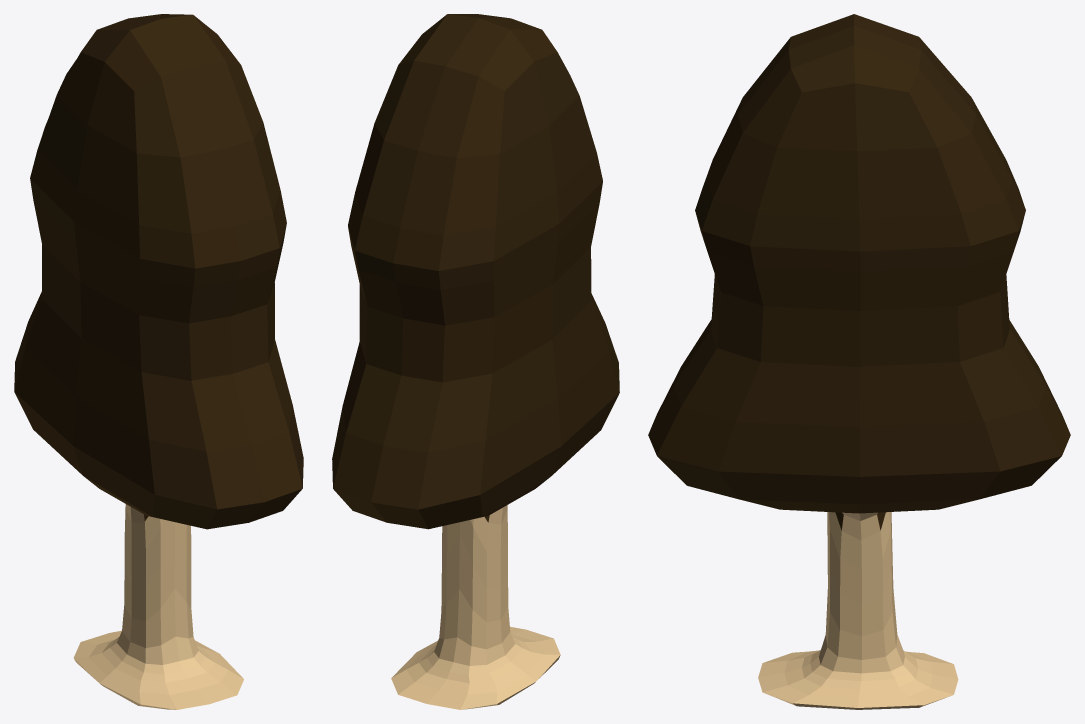
File: icecreamtree.fbx
3 views of the same model, side by side, from view 1: azimuth 30°, elevation 25°; view 2: azimuth 150°, elevation 25°; view 3: azimuth 270°, elevation 25° (orthographic).
Visible parts, largest first — view 1: Cube; view 2: Cube; view 3: Cube.
Boxes of the visible parts, x1,y1,x2,y2 form: Cube: [14, 14, 303, 709]; Cube: [332, 14, 619, 709]; Cube: [648, 14, 1070, 709].
Size of the model in its own units: 615 by 2250 by 1310.
